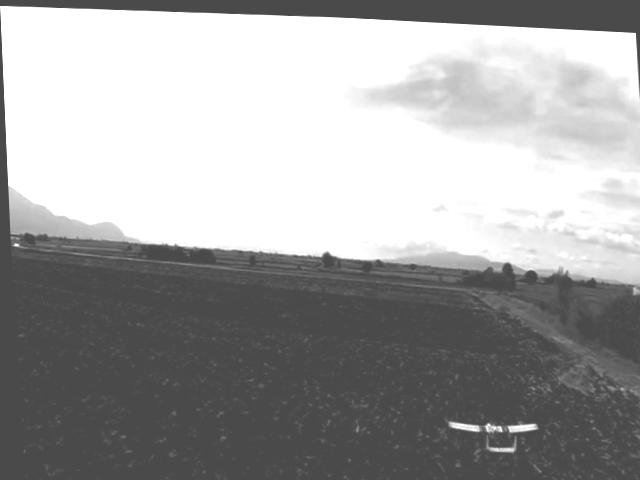hedef: (438, 406, 540, 456)
